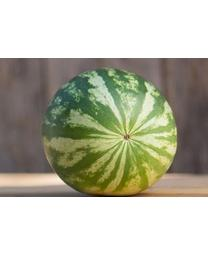watermelon: (41, 67, 178, 198)
